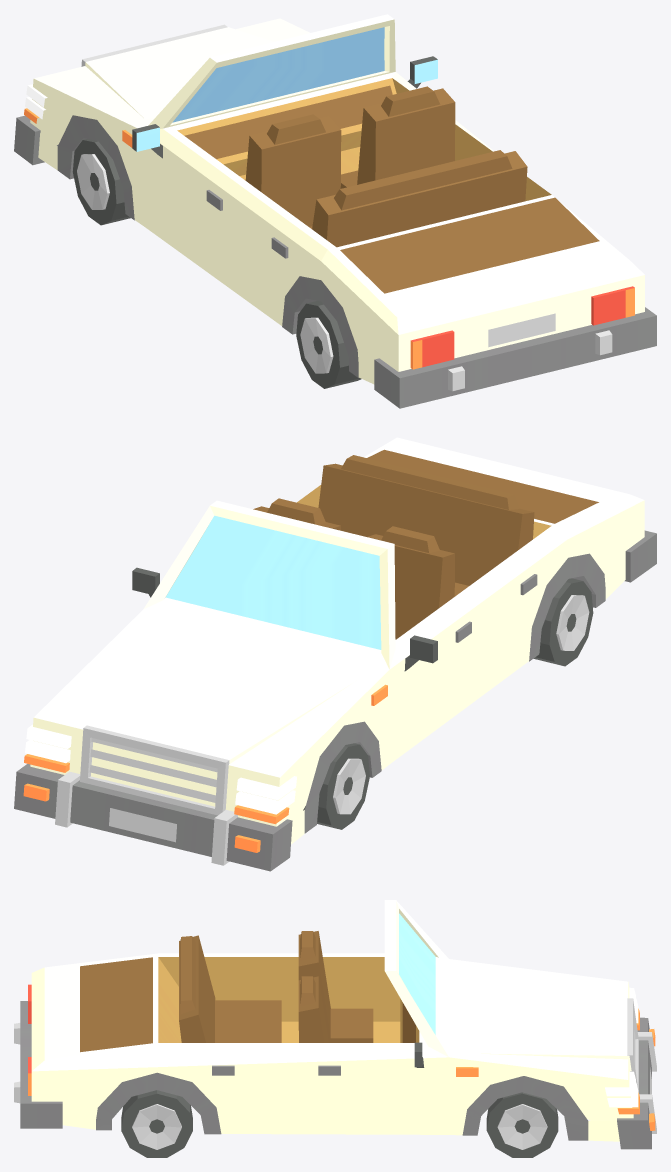
Rendered from transport_cool.001.glb.
The picture shows the model from 3 angles, top to bottom: view 1: azimuth 30°, elevation 25°; view 2: azimuth 150°, elevation 25°; view 3: azimuth 270°, elevation 25°; orthographic projection. The views are drawn at different scales.
Parts seen in each view (by area): view 1: transport_cool.001(Clone); view 2: transport_cool.001(Clone); view 3: transport_cool.001(Clone).
Part boxes in pixels (bbox=[...]): transport_cool.001(Clone): bbox=[14, 14, 656, 408]; transport_cool.001(Clone): bbox=[14, 437, 656, 871]; transport_cool.001(Clone): bbox=[14, 900, 656, 1157].
Size of the model in its own units: 1.48 by 0.9874 by 3.34.
Materials: 1 (1 with a texture image).
